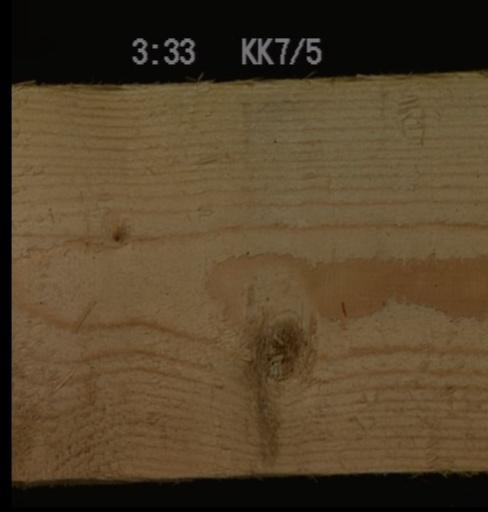small_knot: (106, 215, 133, 248)
